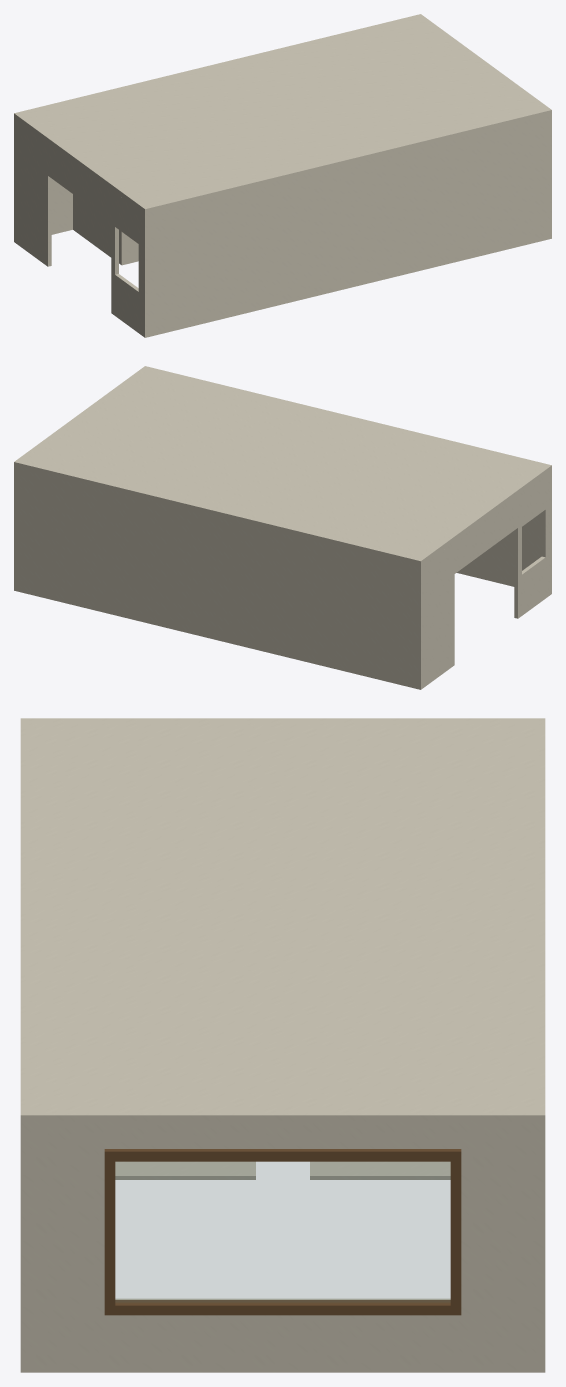
File: NightGardenViewShell_572_r002.glb
3 views of the same model, one above another, from view 1: azimuth 30°, elevation 25°; view 2: azimuth 150°, elevation 25°; view 3: azimuth 270°, elevation 25° (orthographic). The views are drawn at different scales.
Parts seen in each view (by area): view 1: NG572_RuntimeBatch_001; view 2: NG572_RuntimeBatch_001; view 3: NG572_RuntimeBatch_001, NVG_572_PrivateViewPane, NVG_572_ViewFrame_Sill, NVG_572_ViewFrame_Head, NVG_572_ViewFrame_Left, NVG_572_ViewFrame_Right.
Part boxes in pixels (x1,y1,x2,y2): NG572_RuntimeBatch_001: (14,14,551,337); NG572_RuntimeBatch_001: (14,366,551,689); NG572_RuntimeBatch_001: (20,718,545,1372); NVG_572_PrivateViewPane: (115,1162,450,1302); NVG_572_ViewFrame_Sill: (104,1300,461,1315); NVG_572_ViewFrame_Head: (104,1149,461,1161); NVG_572_ViewFrame_Left: (450,1161,461,1305); NVG_572_ViewFrame_Right: (104,1161,115,1305).
Bounding box in the file's own units: 12.99 × 3.9 × 7.2.
3 materials, 1 textured.
